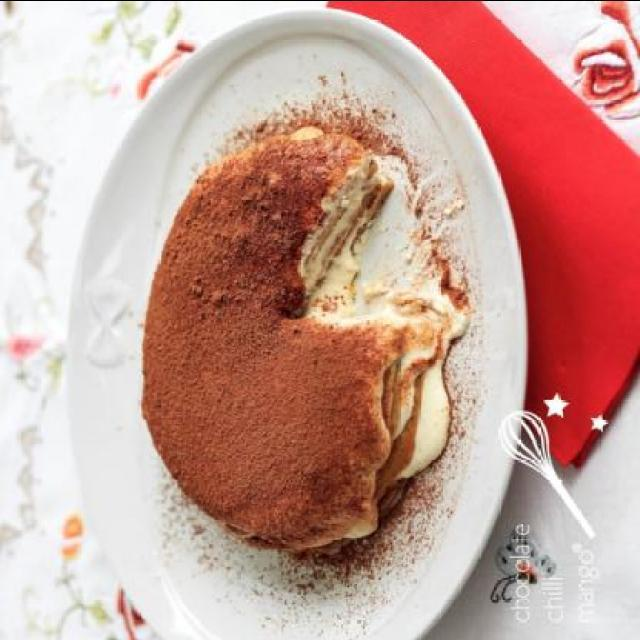Tiramisu: (143, 135, 463, 547)
